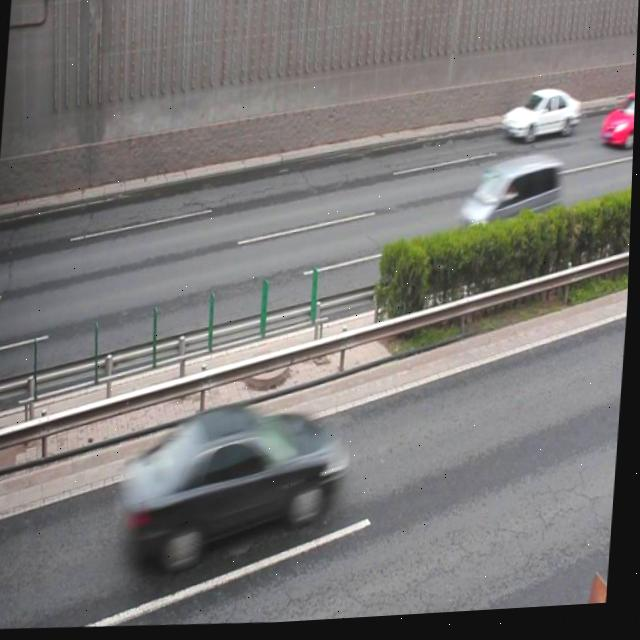car: (120, 403, 347, 581), (500, 92, 582, 153), (598, 96, 636, 158)
truck: (459, 157, 561, 239)
